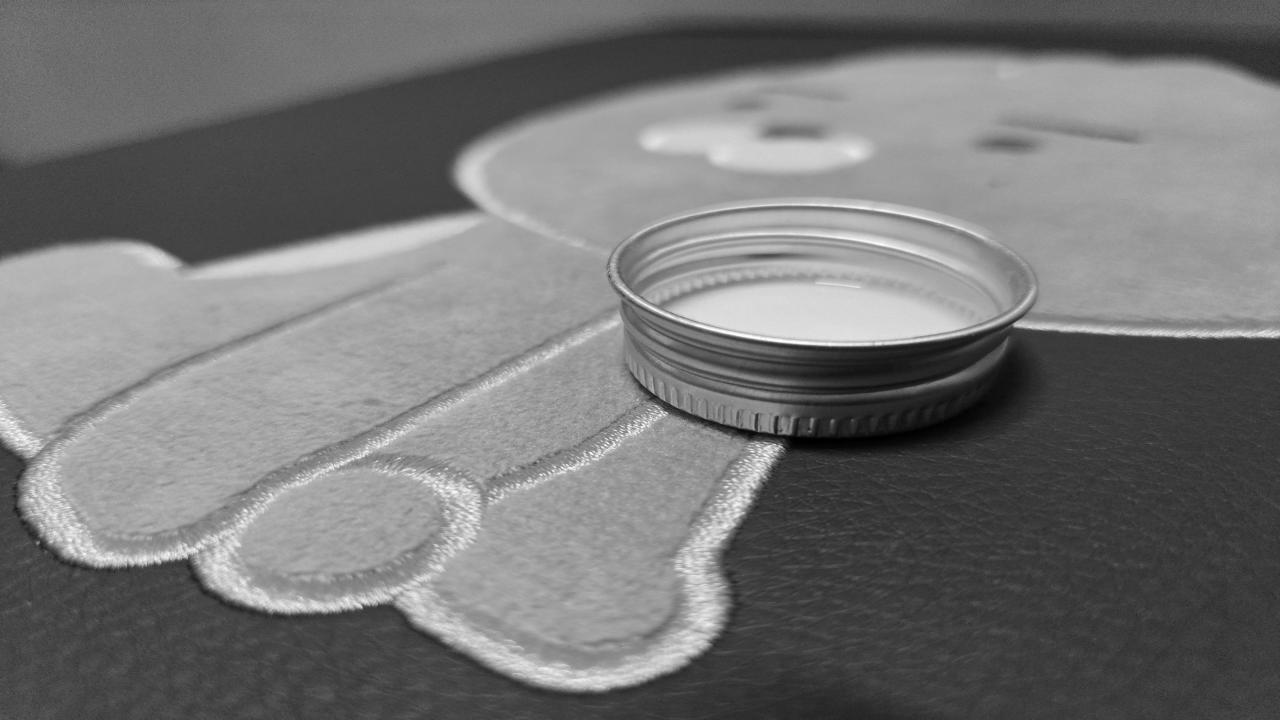bottle_cap: (613, 199, 1038, 438)
